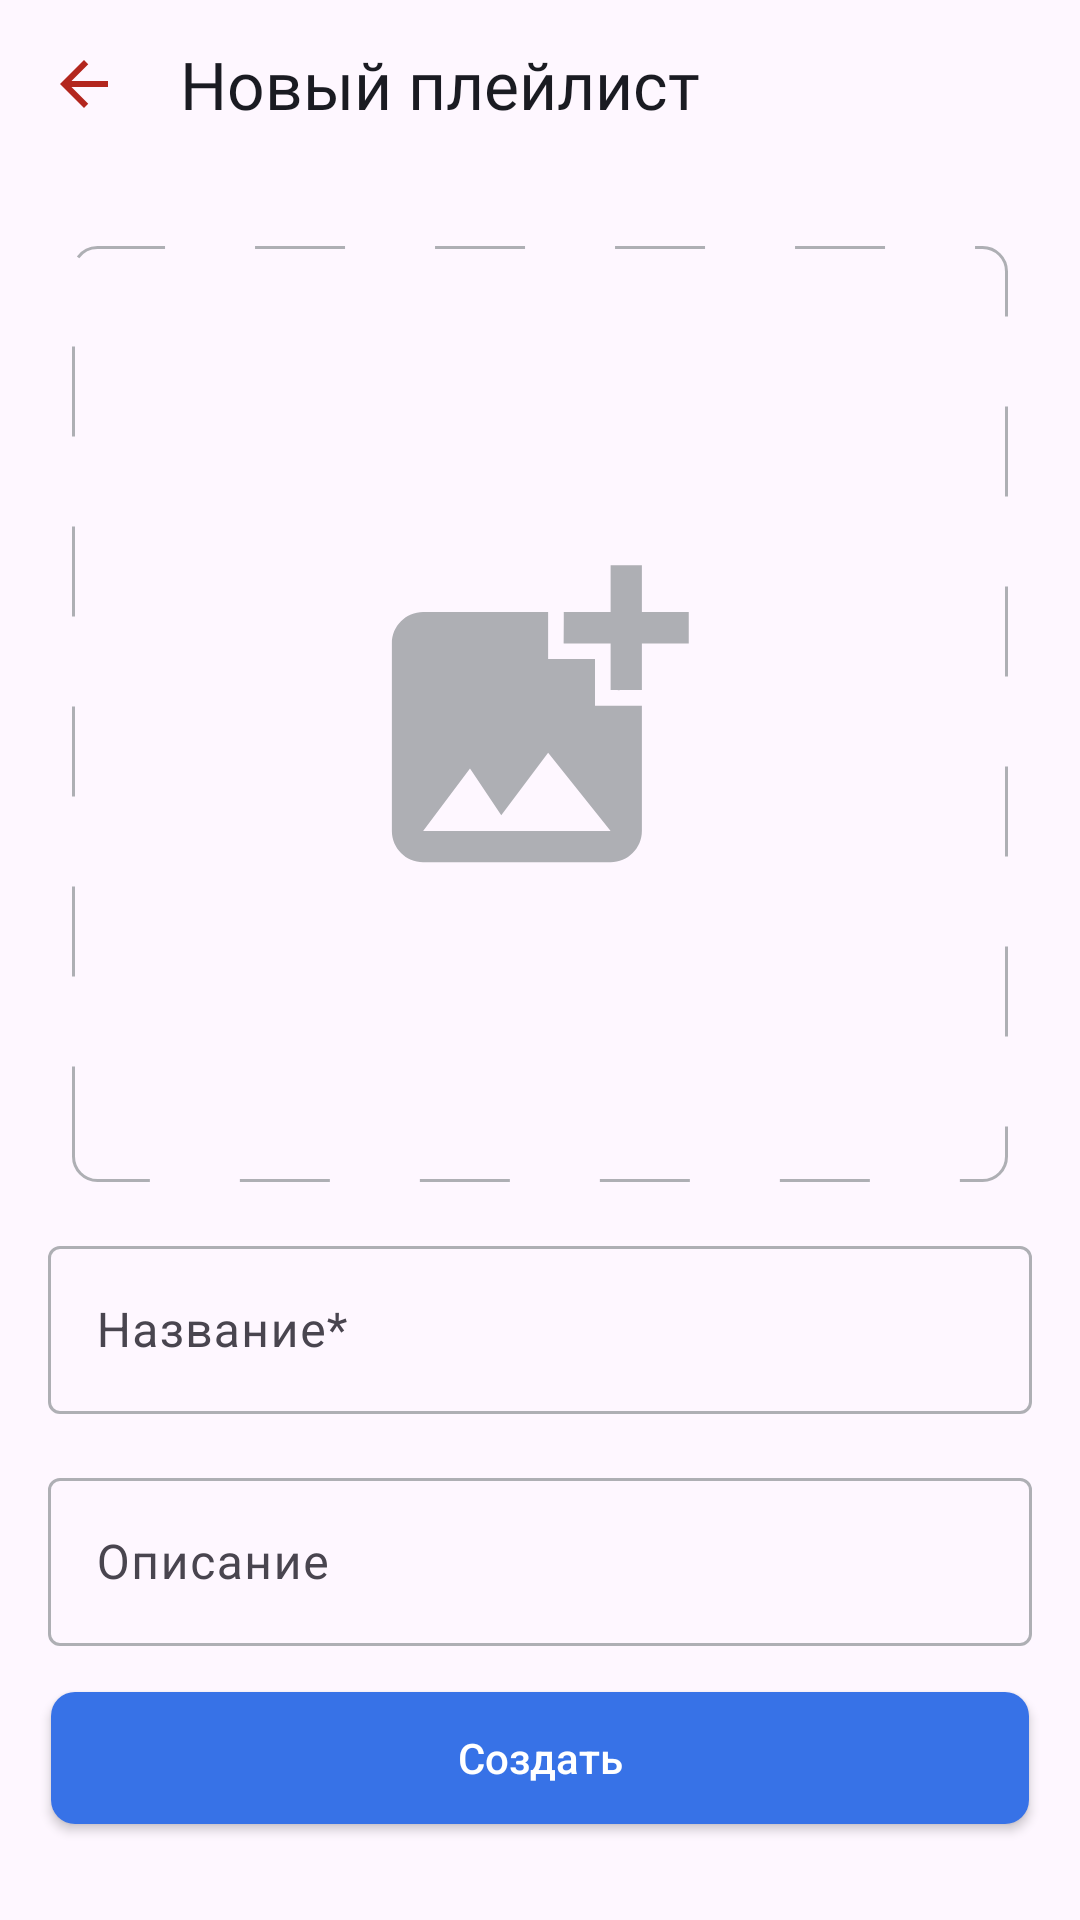

Where icons sit on this 1080 x 1920 app screen, as (x1, y1, x2, y2):
add: (392, 565, 689, 862)
